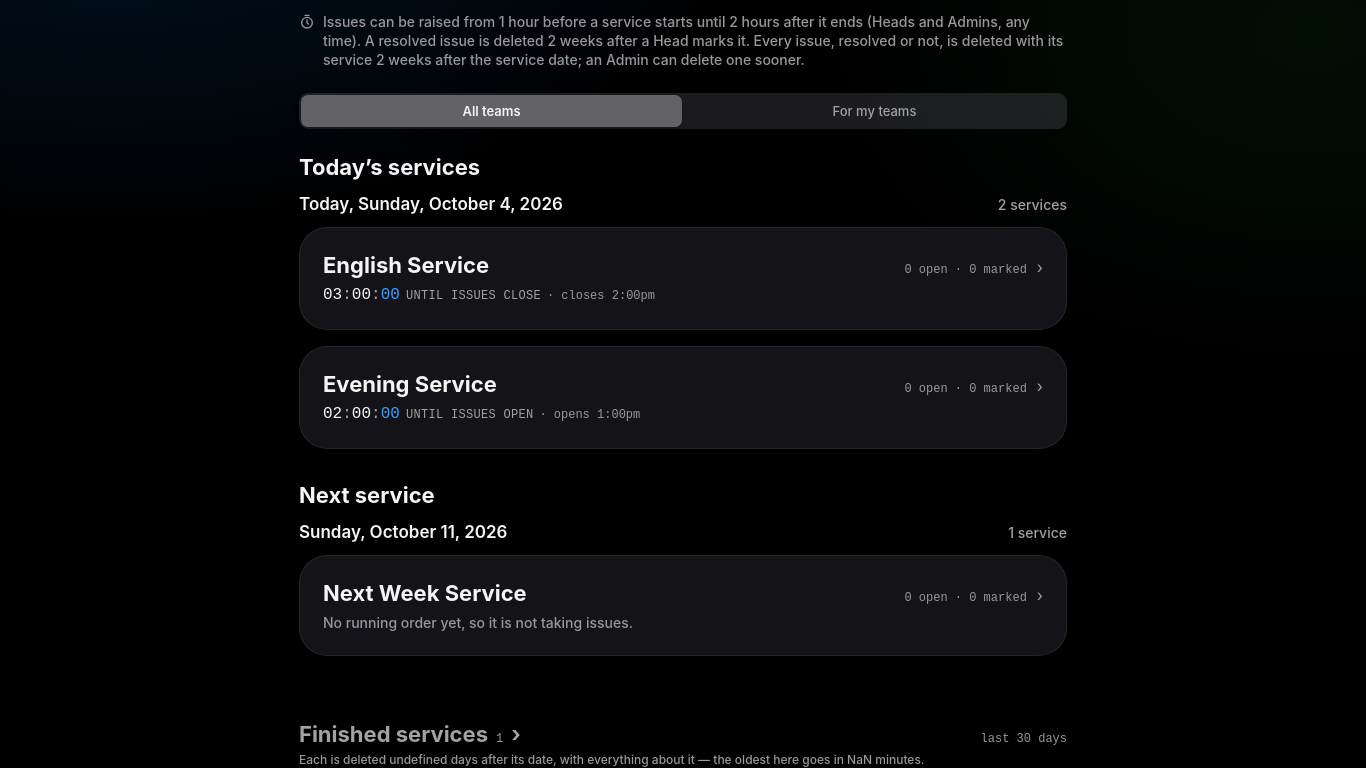
Test: the Issues page › lets an Admin raise one after a service has closed
(page scrolled)
Click the button "Finished services 1 › last 30 days".
click(394, 734)  # box [299,720,1067,748]
(page scrolled)
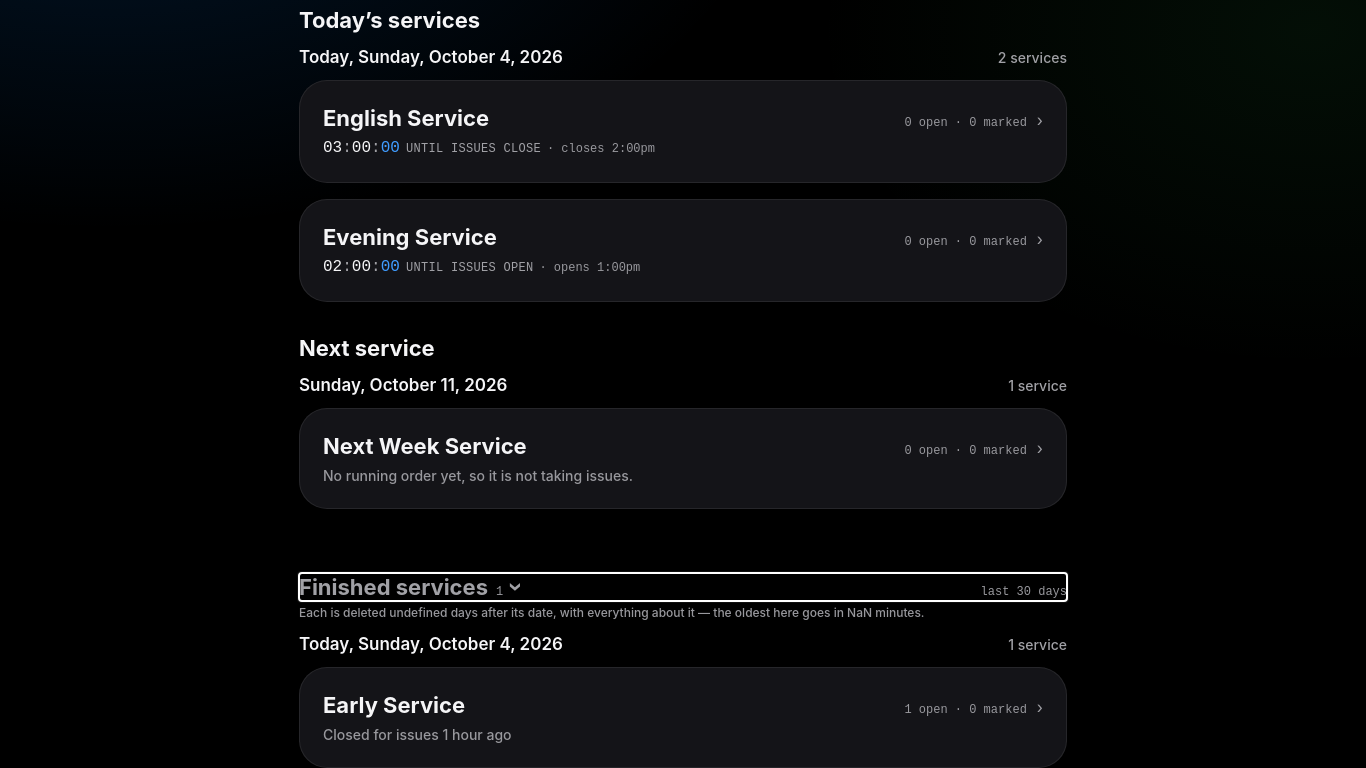
Click the button "Early Service 1 open · 0 marked ›".
click(394, 705)  # box [323,691,1043,719]
(page scrolled)
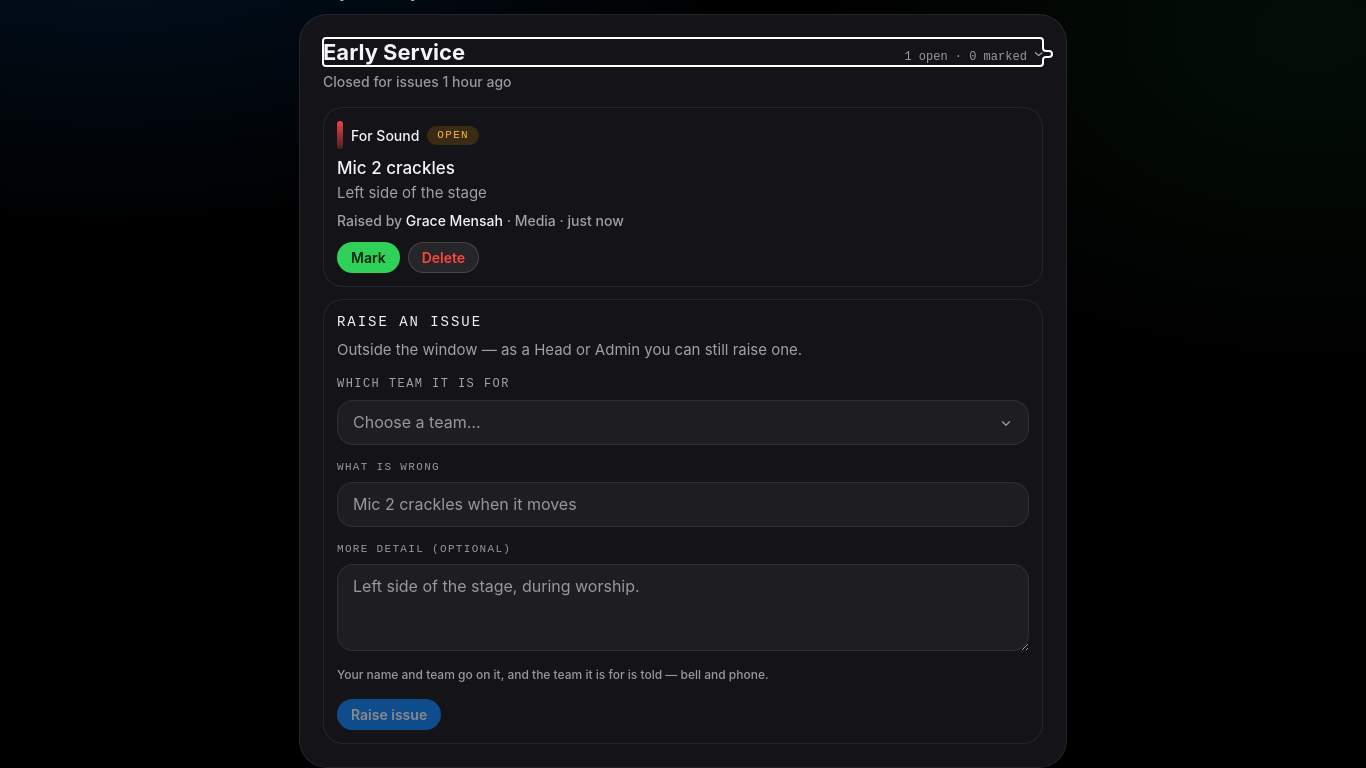
Expected: the field with placeholder "Mic 2 crackles when it moves" is enabled, [337,482,1029,527]
